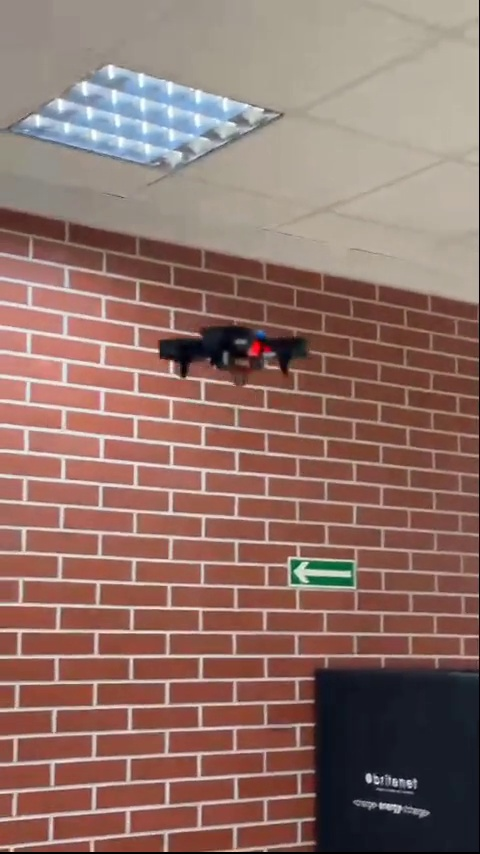drone: (153, 323, 317, 386)
